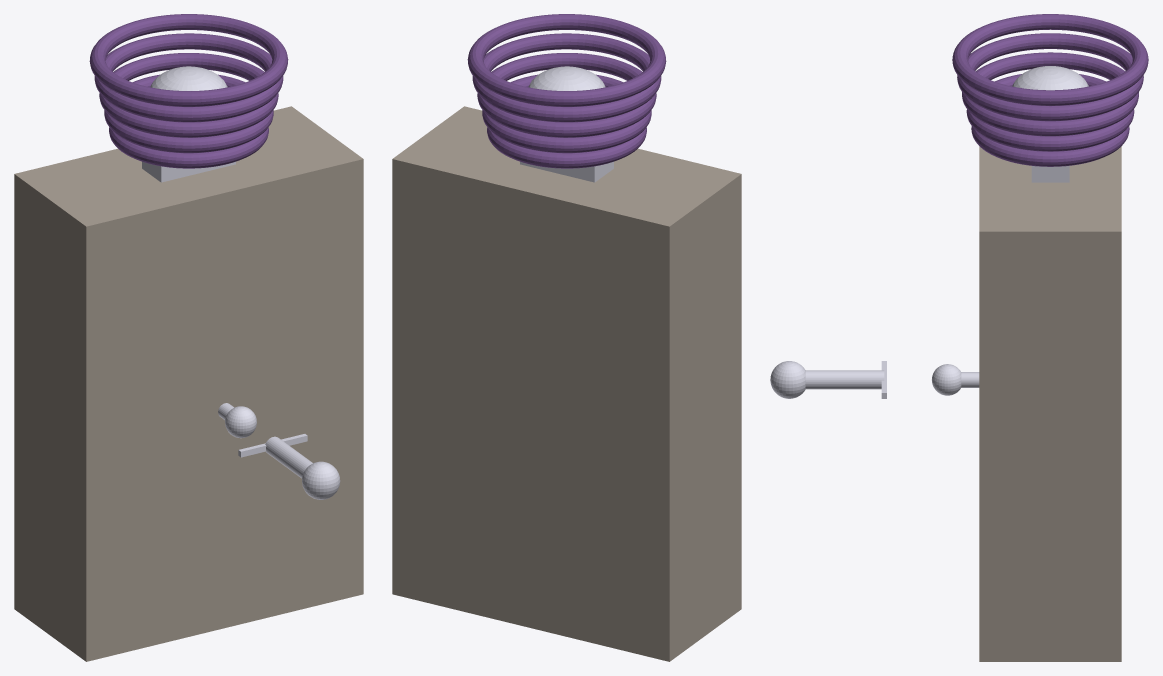
The model's file is safavid_assets.glb.
3 views of the same model, side by side, from view 1: azimuth 30°, elevation 25°; view 2: azimuth 150°, elevation 25°; view 3: azimuth 270°, elevation 25° (orthographic).
Parts seen in each view (by area): view 1: Chogha_Outer, Turban_Safavid, Shamshir_Persian_Sword, Kolah_Khud_Helmet, Qame_Persian_Dagger; view 2: Chogha_Outer, Turban_Safavid, Kolah_Khud_Helmet; view 3: Chogha_Outer, Turban_Safavid, Shamshir_Persian_Sword, Kolah_Khud_Helmet, Qame_Persian_Dagger.
Boxes of the visible parts, x1,y1,x2,y2 form: Chogha_Outer: (14, 106, 363, 661); Turban_Safavid: (89, 14, 288, 168); Shamshir_Persian_Sword: (238, 434, 340, 499); Kolah_Khud_Helmet: (142, 66, 235, 182); Qame_Persian_Dagger: (218, 403, 256, 438); Chogha_Outer: (392, 106, 741, 661); Turban_Safavid: (467, 14, 666, 168); Kolah_Khud_Helmet: (520, 66, 613, 182); Chogha_Outer: (979, 146, 1121, 661); Turban_Safavid: (952, 14, 1148, 166); Shamshir_Persian_Sword: (770, 361, 886, 398); Kolah_Khud_Helmet: (1012, 66, 1088, 182); Qame_Persian_Dagger: (932, 364, 979, 395).
Size of the model in its own units: 2 by 3.78 by 2.39.
